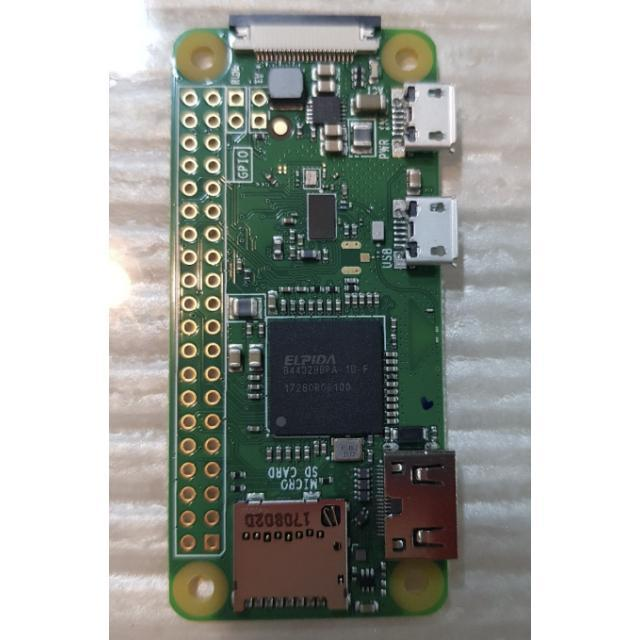Raspberry-Pi-Zero-W: (168, 14, 461, 621)
